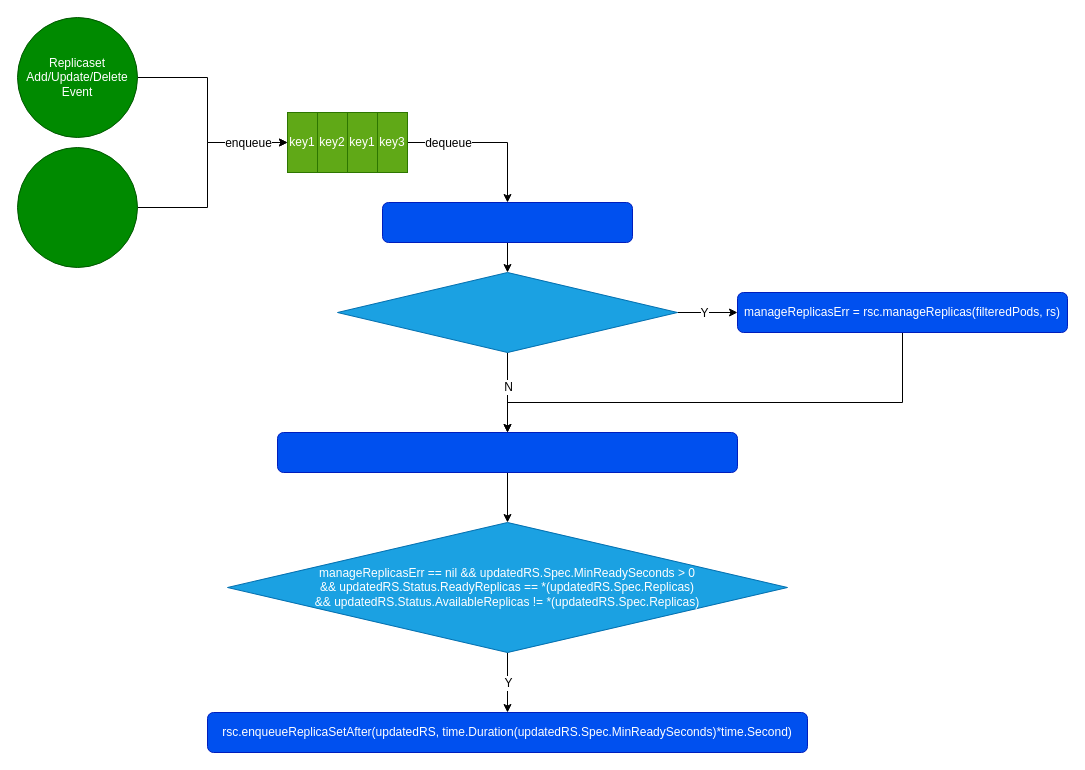
Some shapes in this 1085 by 770 pixel diagram are drawn without their labels. Each missing label, with the centre of its shape:
Pod Add/Update/Delete Event: the point at 77,207
rsc.claimPods(rs, selector, filteredPods): the point at 507,222
rsc.expectations.SatisfiedExpectations(key) && rs.DeletionTimestamp == nil: the point at 507,312
updateReplicaSetStatus(rs, calculateStatus(rs, filteredPods, manageReplicasErr)): the point at 507,452
